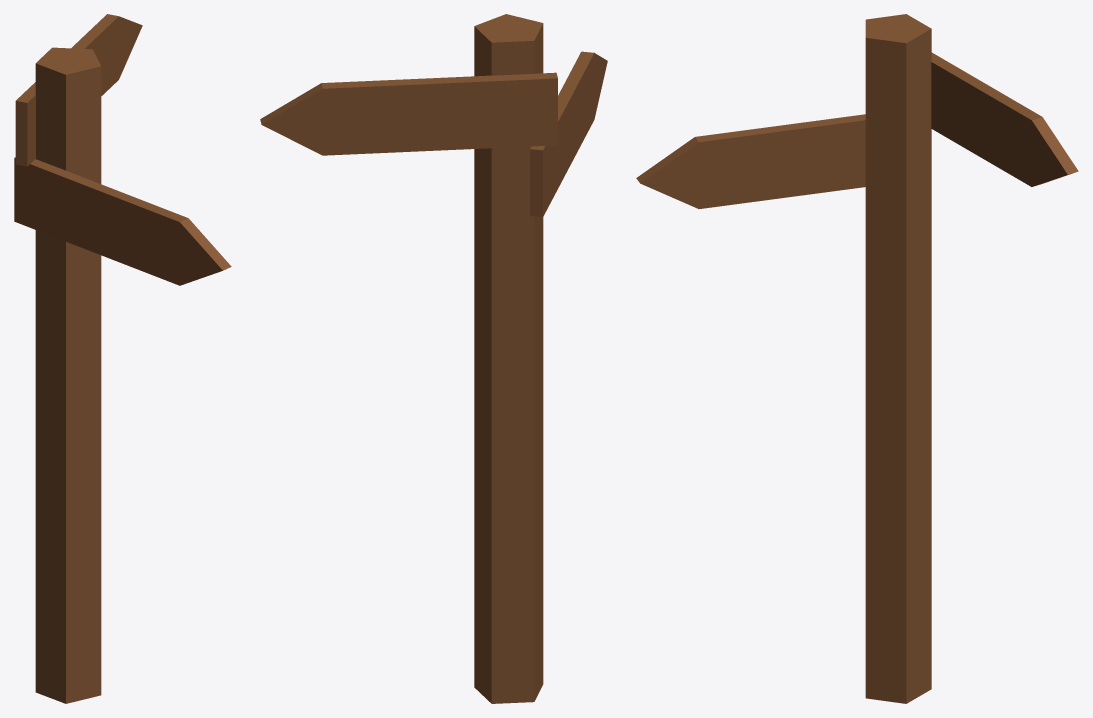
Rendered from signpost.fbx.
3 views of the same model, side by side, from view 1: azimuth 30°, elevation 25°; view 2: azimuth 150°, elevation 25°; view 3: azimuth 270°, elevation 25° (orthographic). The views are drawn at different scales.
Parts seen in each view (by area): view 1: Cylinder; view 2: Cylinder; view 3: Cylinder.
Part boxes in pixels (x1=…): Cylinder: x1=14, y1=14, x2=231, y2=703; Cylinder: x1=260, y1=14, x2=607, y2=703; Cylinder: x1=636, y1=14, x2=1078, y2=703.
Bounding box in the file's own units: 68.3 × 200 × 121.
